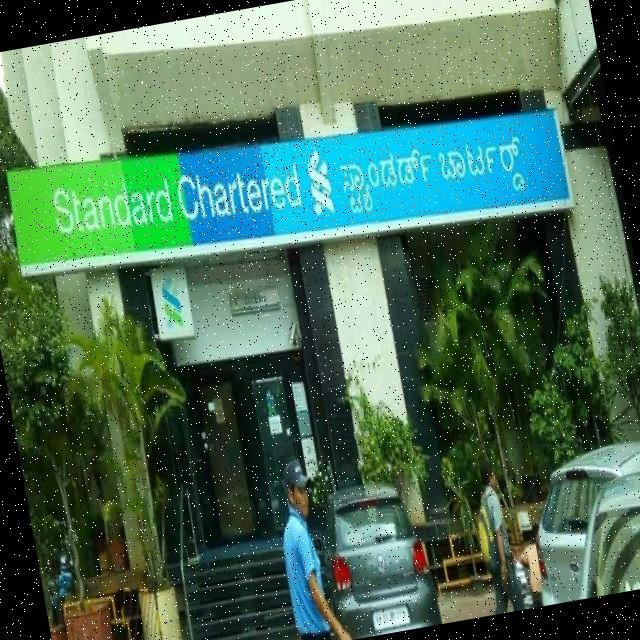Standard Chartered: (51, 137, 337, 263)
